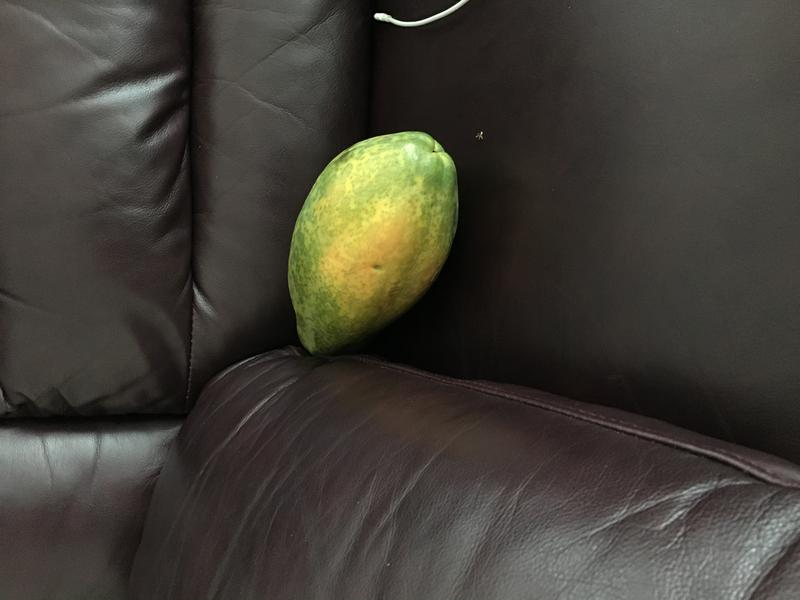papaya: (278, 117, 469, 369)
